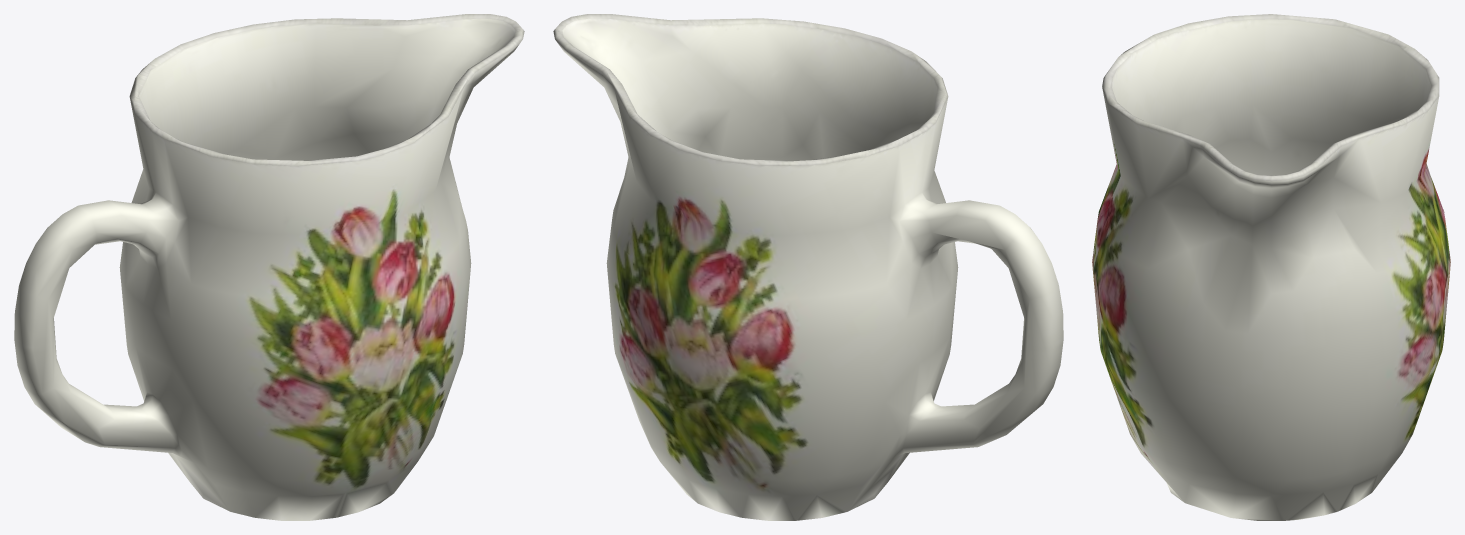
The model's file is jug_01.glb.
3 views of the same model, side by side, from view 1: azimuth 30°, elevation 25°; view 2: azimuth 150°, elevation 25°; view 3: azimuth 270°, elevation 25° (orthographic). The views are drawn at different scales.
Parts seen in each view (by area): view 1: jug_01; view 2: jug_01; view 3: jug_01.
Boxes of the visible parts, x1=… form: jug_01: x1=14, y1=14, x2=524, y2=520; jug_01: x1=553, y1=14, x2=1063, y2=520; jug_01: x1=1092, y1=14, x2=1450, y2=520.
Bounding box in the file's own units: 0.275 × 0.2113 × 0.1675.
1 material, 1 textured.
